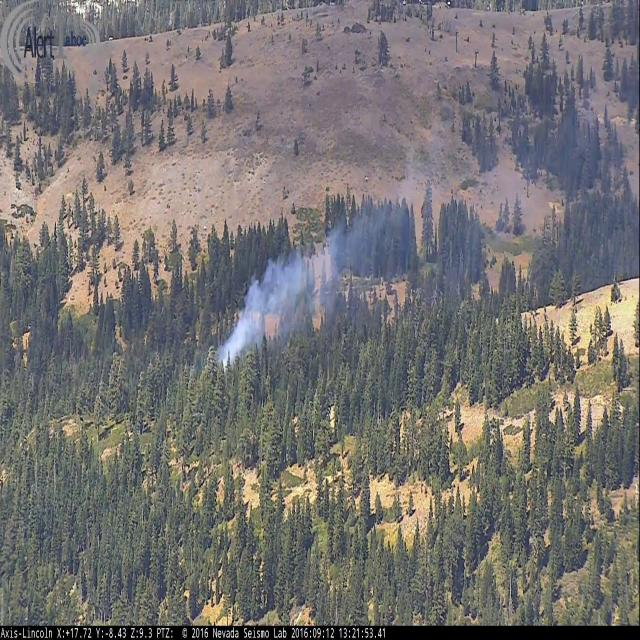smoke: (217, 88, 640, 369)
